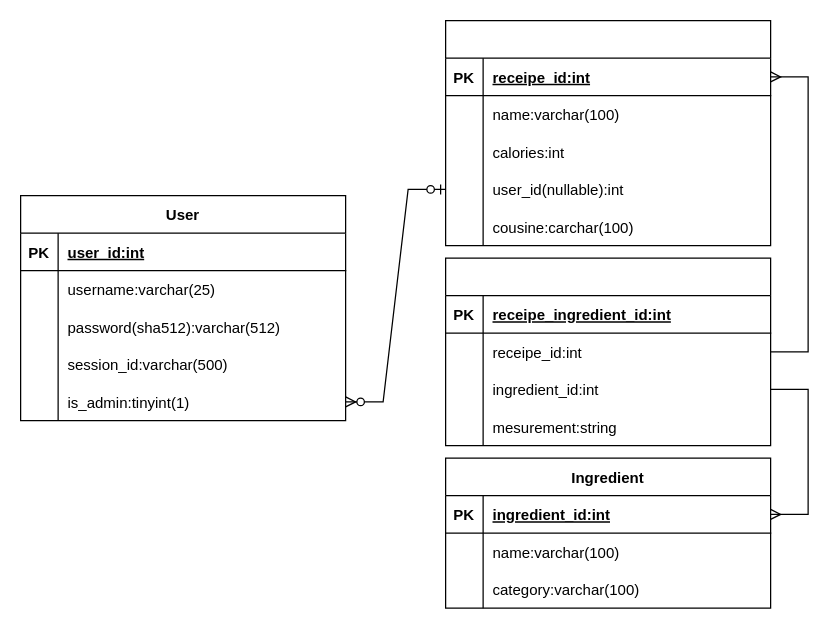
The diagram is 829 pixels wide and 629 high, and some of its shapes have lost their labels. The box of each missing label's shape, as (x1, y1, x2, y2) in pixels:
Recipe: (444, 19, 771, 246)
RecipeIngredients: (444, 257, 771, 446)
